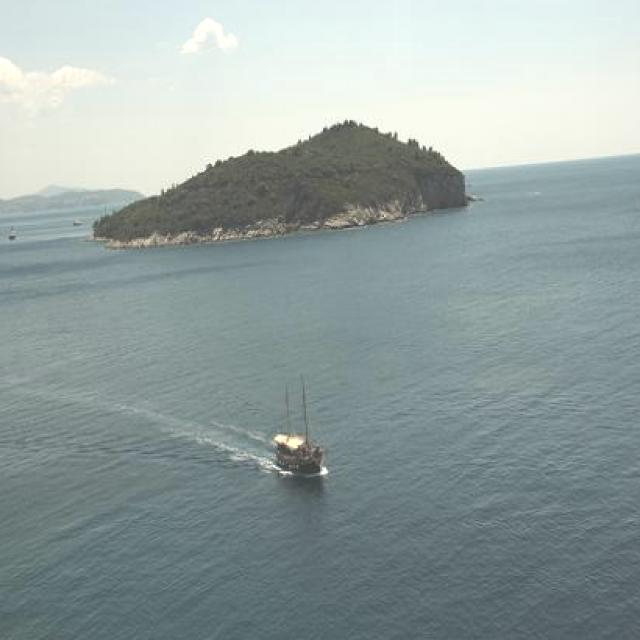ship: (272, 372, 326, 472), (6, 222, 16, 238), (73, 217, 82, 223)
